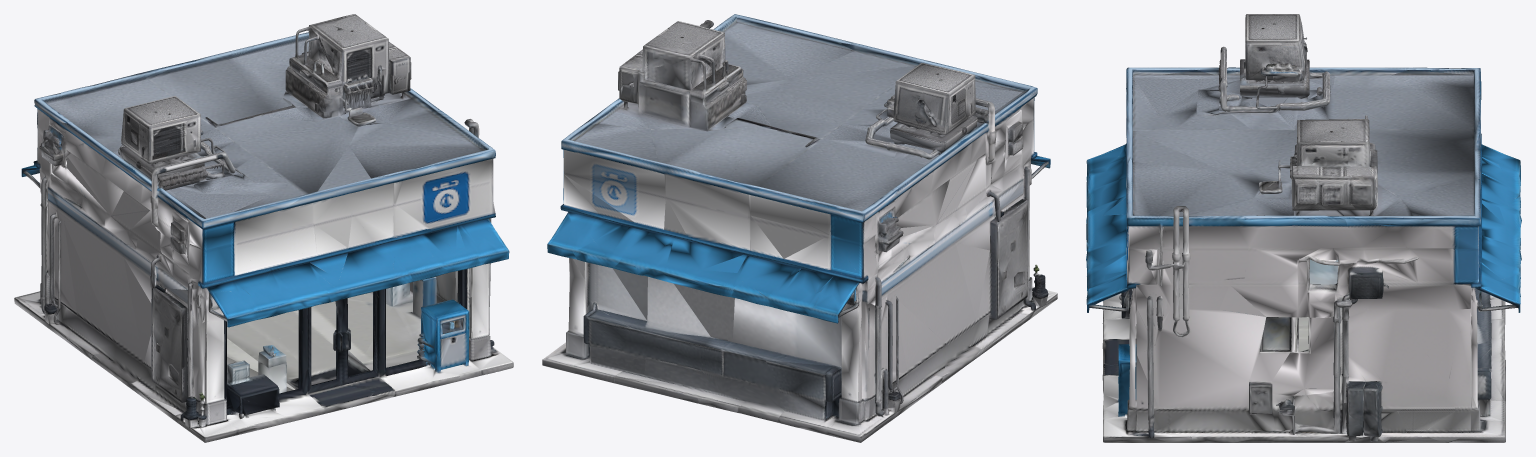
Rendered from BLD_019_laundromat_a.glb.
The picture shows the model from 3 angles, left to right: view 1: azimuth 30°, elevation 25°; view 2: azimuth 150°, elevation 25°; view 3: azimuth 270°, elevation 25°; orthographic projection. The views are drawn at different scales.
Parts seen in each view (by area): view 1: Mesh_0; view 2: Mesh_0; view 3: Mesh_0.
Part boxes in pixels (<box>): Mesh_0: <box>14,14,513,442</box>; Mesh_0: <box>542,14,1057,442</box>; Mesh_0: <box>1086,14,1521,442</box>.
Size of the model in its own units: 5.21 by 4.2 by 5.83.
1 material, 1 textured.
